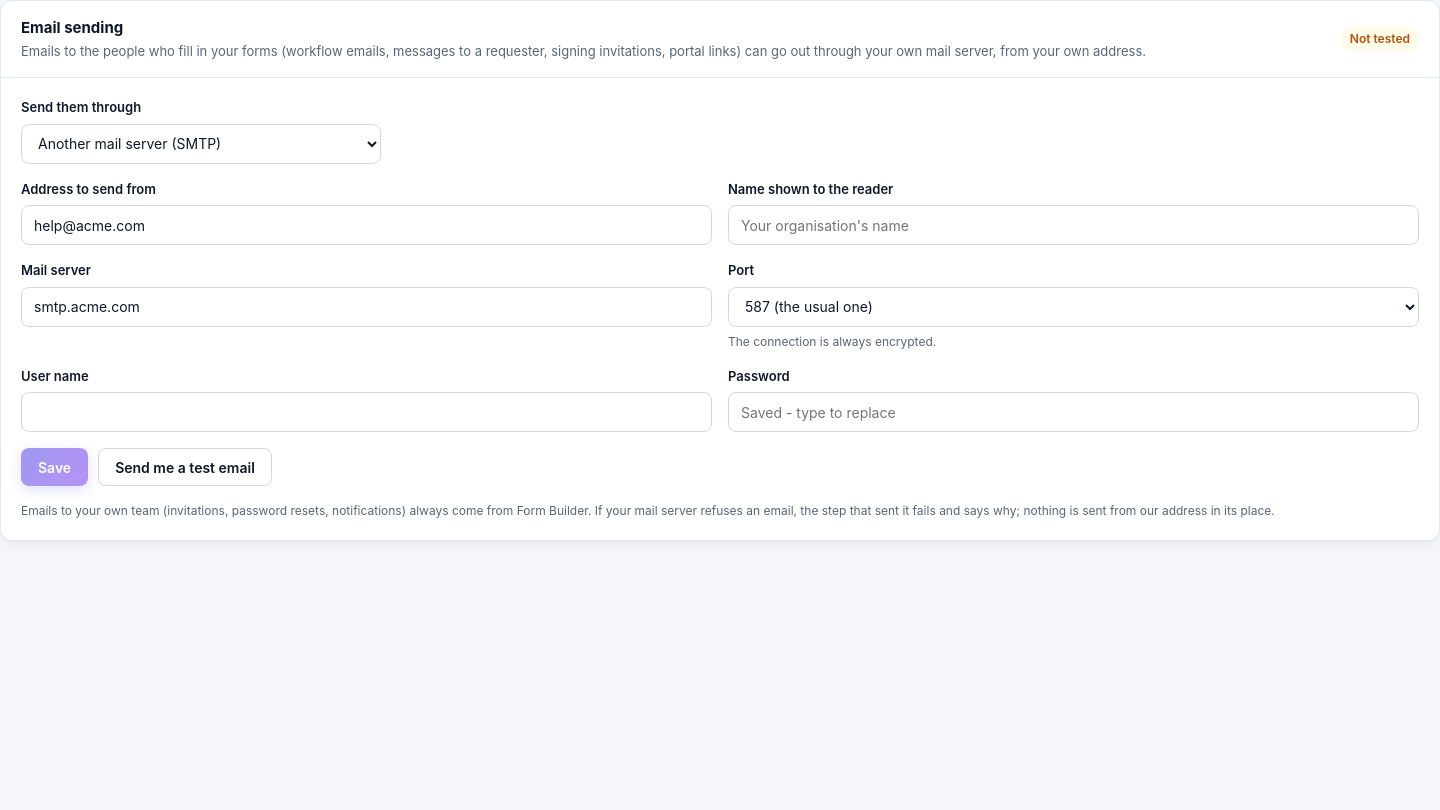
the email sending card › a failed test shows the server's plain reason and offers nothing to switch on
Click the button "Send me a test email". click: (185, 467)
box: [98, 448, 272, 486]
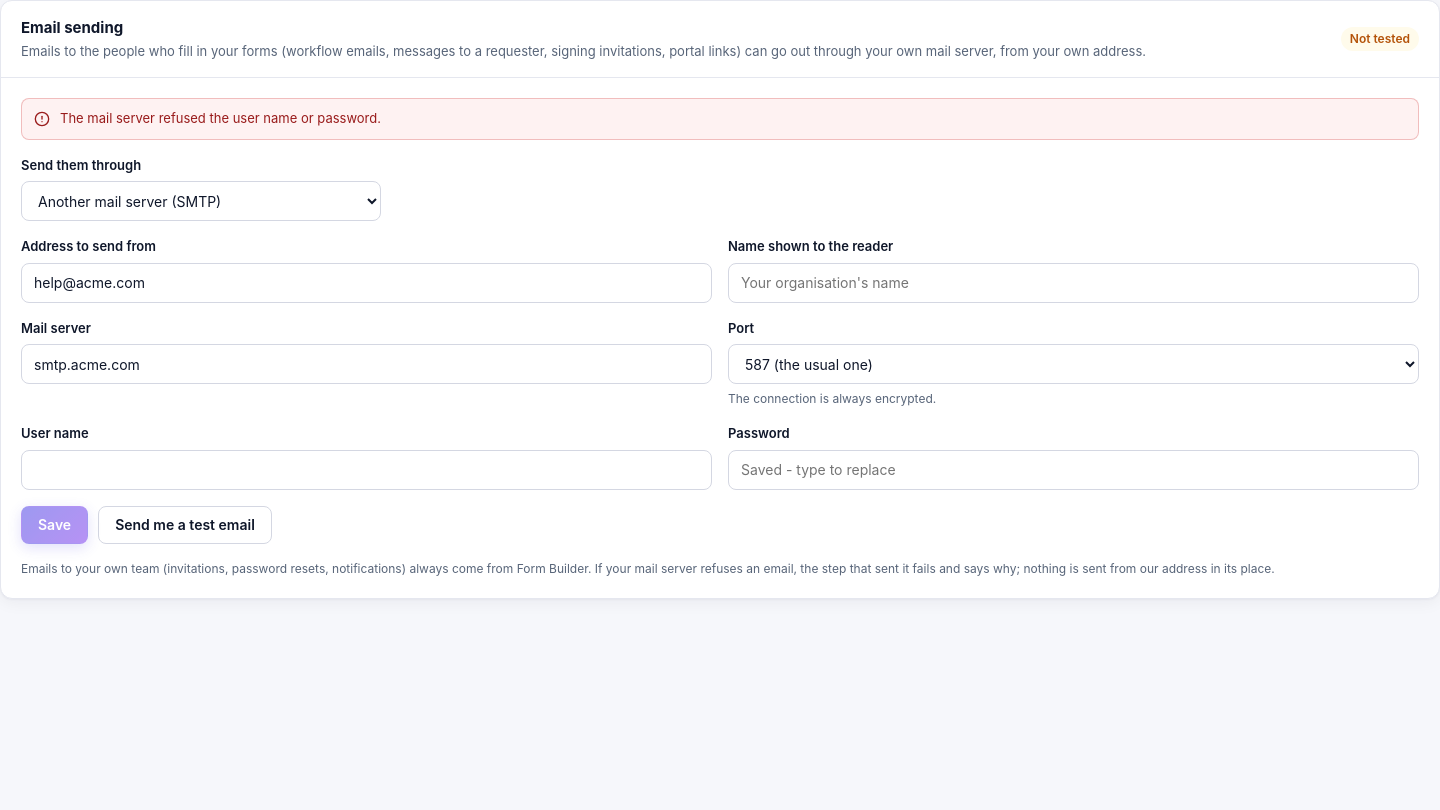
Result: the text "The mail server refused the user name or password." is shown at [60, 109, 381, 128]
